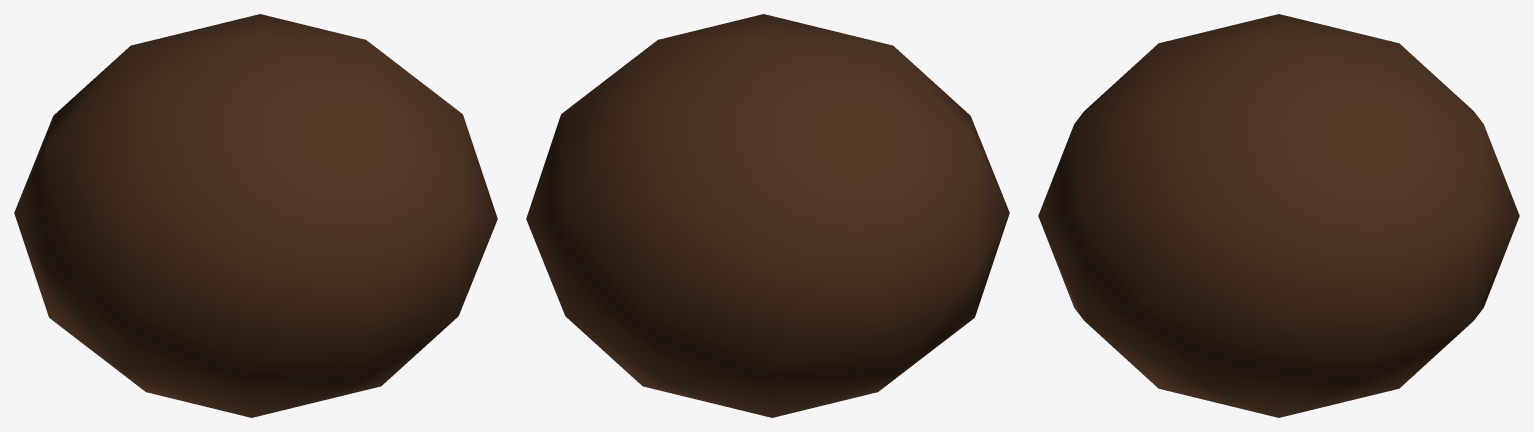
The model's file is hair_curly.glb.
The picture shows the model from 3 angles, left to right: view 1: azimuth 30°, elevation 25°; view 2: azimuth 150°, elevation 25°; view 3: azimuth 270°, elevation 25°; orthographic projection.
Parts seen in each view (by area): view 1: hair_curls; view 2: hair_curls; view 3: hair_curls.
Boxes of the visible parts, <box> form: hair_curls: <box>14,14,497,417</box>; hair_curls: <box>526,14,1009,417</box>; hair_curls: <box>1038,14,1519,417</box>.
Size of the model in its own units: 0.38 by 0.304 by 0.38.
